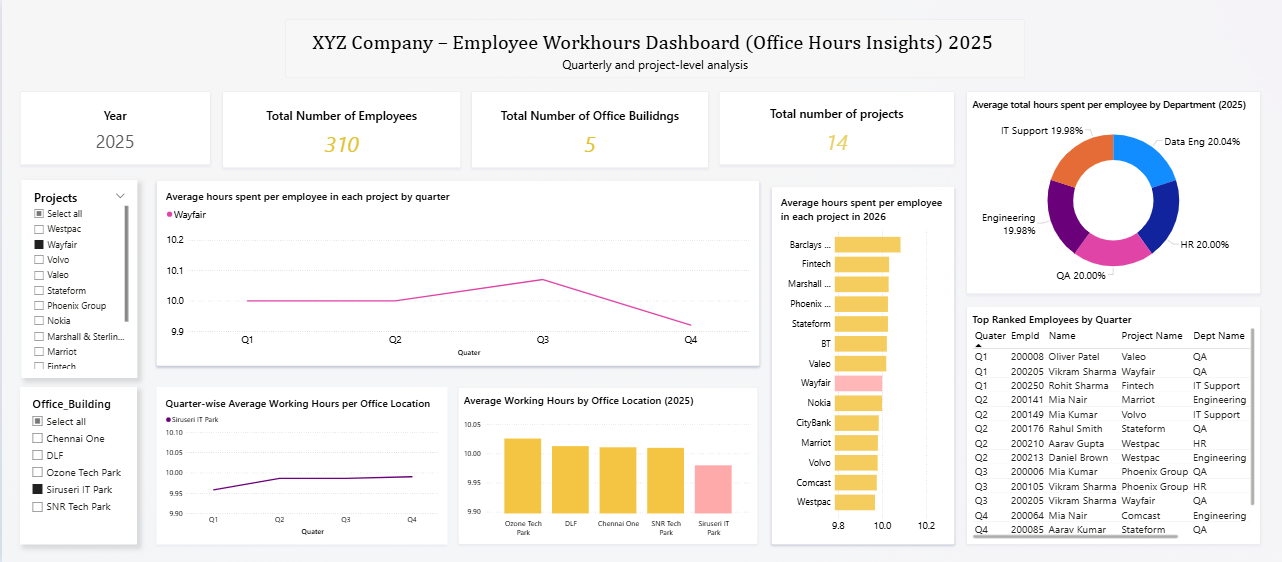

The page's visual inventory and layout, read from the dashboard file:
{"tool":"powerbi","page":{"name":"Page 1","canvas":[2850,1250],"ordinal":0},"visuals":[{"type":"lineChart","title":"Average hours spent per employee in each project by quarter","fields":{"Category":["Avg hours per project with quarter.Quater"],"Series":["Avg hours per project with quarter.Project"],"Y":["Avg(Avg hours per project with quarter.Avg Hours of Employee)"]},"box":[343.3,400,1340,413.3],"z":0},{"type":"slicer","title":" Avg hours of employees per project in 2025","fields":{"Values":["Projects_Slicer.Proejcts"]},"box":[42.5,400,257.5,440],"z":1000},{"type":"clusteredBarChart","title":"Average hours spent per employee in each project in 2026","fields":{"Category":["2026-Avg hours of emp per proj.Proejcts"],"Y":["Avg(2026-Avg hours of emp per proj.Avg hours of employees)"]},"box":[1710,413.3,406.7,796.7],"z":2000},{"type":"lineChart","title":"Quarter‑wise Average Working Hours per Office Location","fields":{"Category":["Avg hours of emp per build per quater.Quater"],"Y":["Avg(Avg hours of emp per build per quater.Avg hours of Employees)"],"Series":["Avg hours of emp per build per quater.Office"]},"box":[343.3,860,646.7,350],"z":3000},{"type":"columnChart","title":"Average Working Hours by Office Location (2025)","fields":{"Category":["2026-Avg hours of emp per loc.Office_Building"],"Y":["Avg(2026-Avg hours of emp per loc.Average hours of Employees)"]},"box":[1013.3,860,666.7,350],"z":4000},{"type":"slicer","fields":{"Values":["Table 2.Office_Building"]},"box":[40,860,260,350],"z":5000},{"type":"card","fields":{"Values":["2026-Avg hours of emp per loc.Manual KPI Text"]},"box":[490,203.3,530,170],"z":6000},{"type":"card","fields":{"Values":["2026-Avg hours of emp per loc.10"]},"box":[1593.3,203.3,523.3,163.3],"z":7000},{"type":"card","fields":{"Values":["2026-Avg hours of emp per loc.5"]},"box":[1043.3,203.3,526.7,170],"z":8000},{"type":"card","fields":{"Values":["2026-Avg hours of emp per loc.2025"]},"box":[40,203.3,423.3,163.3],"z":9000},{"type":"card","fields":{"Values":["2026-Avg hours of emp per loc.Dashboard Title"]},"box":[630,43.3,1643.3,130],"z":10000},{"type":"donutChart","title":"Average total hours spent per employee by Department (2025)","fields":{"Category":["Avg per dept.Column1"],"Y":["Avg(Avg per dept.Column2)"]},"box":[2143.3,203.3,653.3,450],"z":11000},{"type":"tableEx","title":" Top Ranked Employees by Quarter","fields":{"Values":["Rankemp.Quater","Rankemp.EmpId","Rankemp.Name","Rankemp.Project Name","Rankemp.Dept Name","Rankemp.Average Hours","Rankemp.Rank"]},"box":[2143.3,680,653.3,530],"z":12000}]}

Visuals, with their boxes in screenshot pixels (x1, y1, x2, y2), scaled from the page's 2850x1250 canvas onto the 1282x562 screenshot:
"Average hours spent per employee in each project by quarter" lineChart: <box>154,180,757,366</box>
" Avg hours of employees per project in 2025" slicer: <box>19,180,135,378</box>
"Average hours spent per employee in each project in 2026" clusteredBarChart: <box>769,186,952,544</box>
"Quarter‑wise Average Working Hours per Office Location" lineChart: <box>154,387,445,544</box>
"Average Working Hours by Office Location (2025)" columnChart: <box>456,387,756,544</box>
slicer - Table 2.Office_Building: <box>18,387,135,544</box>
card - 2026-Avg hours of emp per loc.Manual KPI Text: <box>220,91,459,168</box>
card - 2026-Avg hours of emp per loc.10: <box>717,91,952,165</box>
card - 2026-Avg hours of emp per loc.5: <box>469,91,706,168</box>
card - 2026-Avg hours of emp per loc.2025: <box>18,91,208,165</box>
card - 2026-Avg hours of emp per loc.Dashboard Title: <box>283,19,1023,78</box>
"Average total hours spent per employee by Department (2025)" donutChart: <box>964,91,1258,294</box>
" Top Ranked Employees by Quarter" tableEx: <box>964,306,1258,544</box>
